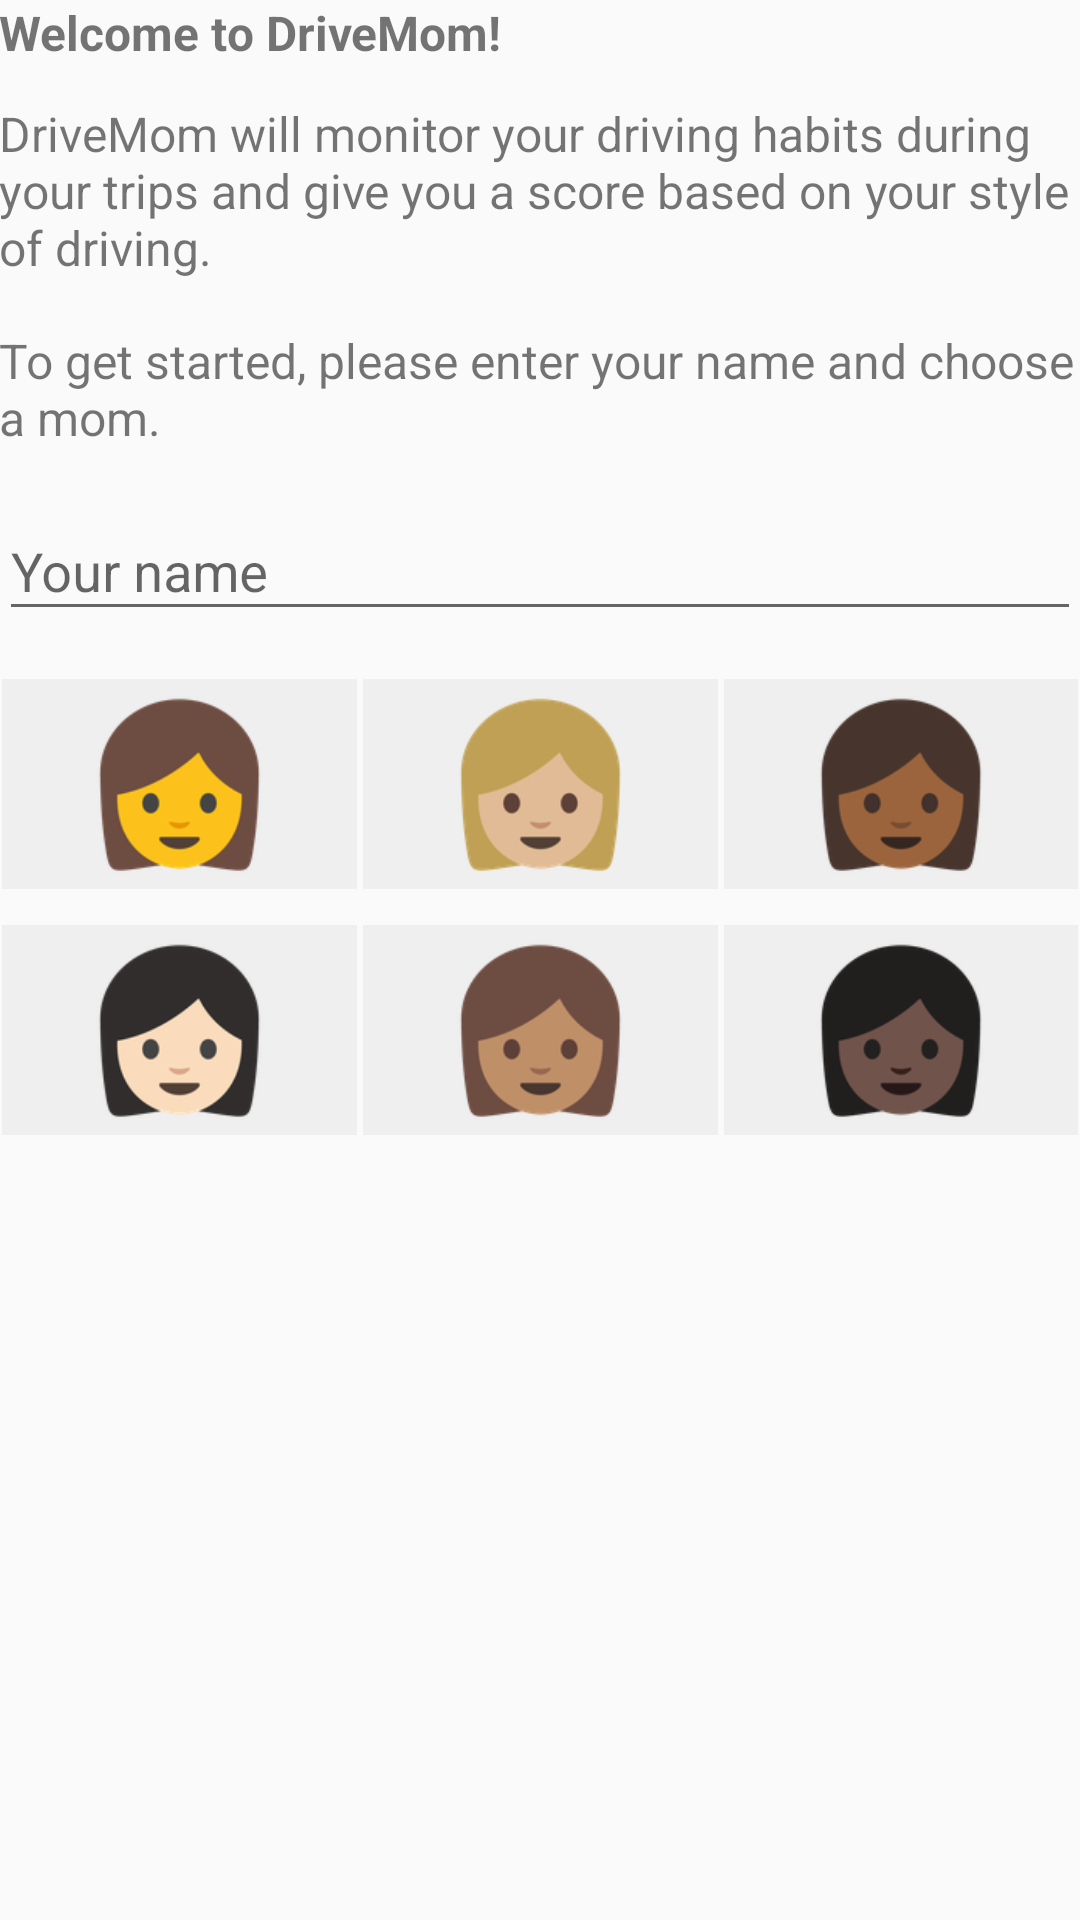

Where to tap for icons on this 1080px x 1920px app screen, as point (x, y):
mom: point (179, 784), point (540, 784), point (901, 784), point (179, 1030), point (540, 1030), point (901, 1030)
